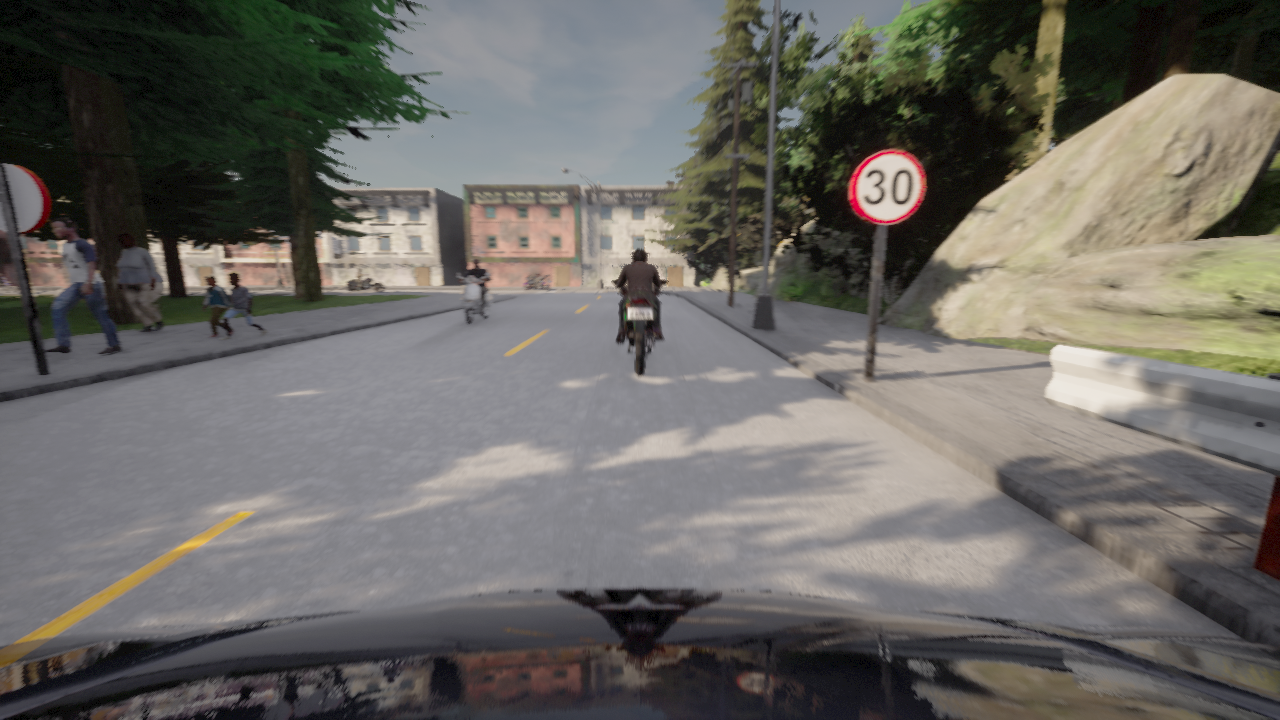cyclist: (0, 588, 1279, 719), (612, 280, 667, 375), (456, 272, 492, 323), (346, 275, 384, 291), (523, 274, 550, 290)
pedestrian: (46, 217, 121, 353), (117, 233, 164, 332), (219, 275, 266, 339), (203, 275, 234, 337)
